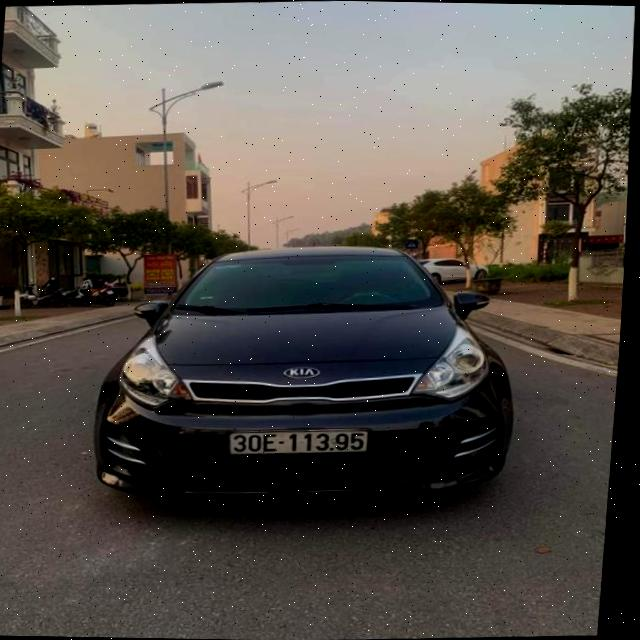car: (89, 238, 530, 512)
plate: (223, 422, 376, 466)
